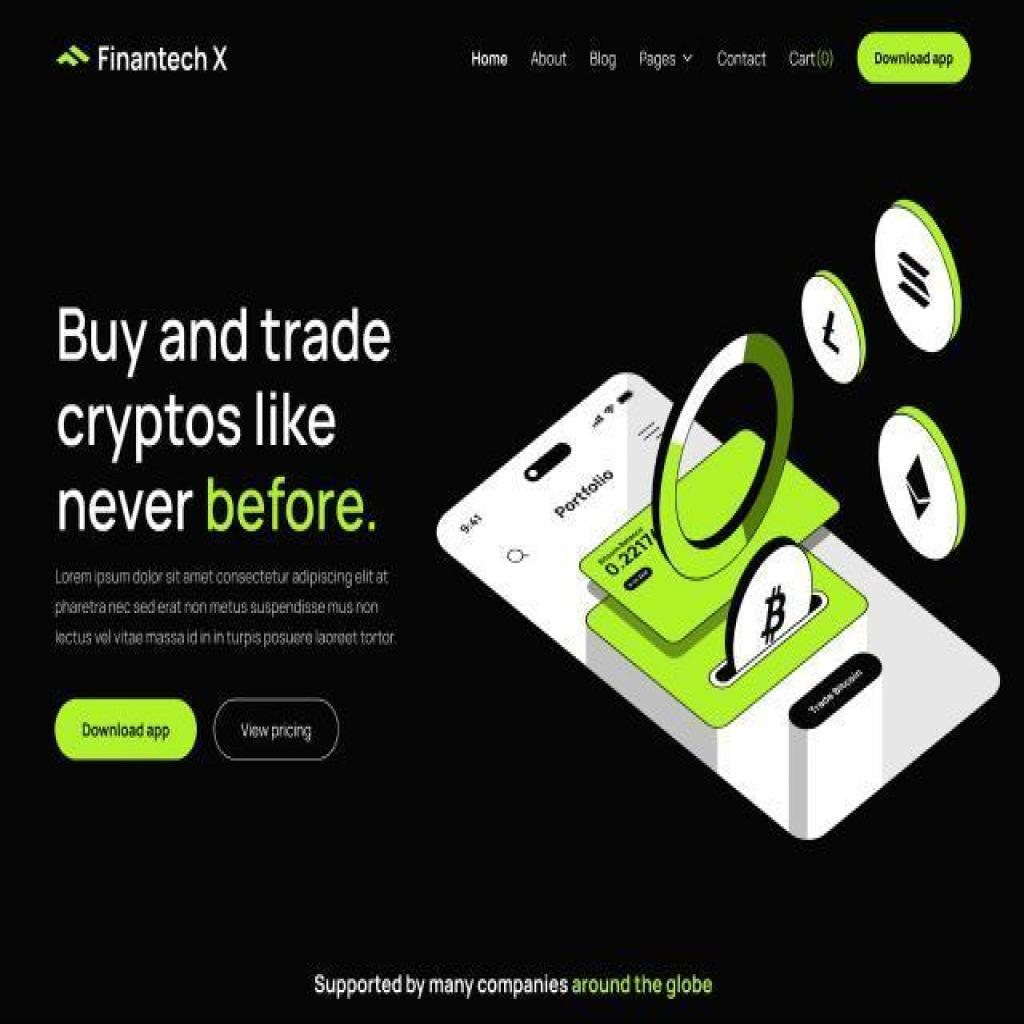button: (56, 699, 197, 761), (216, 700, 341, 758), (858, 32, 972, 82)
icon: (682, 50, 694, 64)
label: (88, 41, 234, 77), (637, 46, 678, 72), (787, 48, 835, 70), (715, 50, 768, 68), (470, 46, 510, 68), (530, 46, 570, 68), (590, 48, 620, 72)
